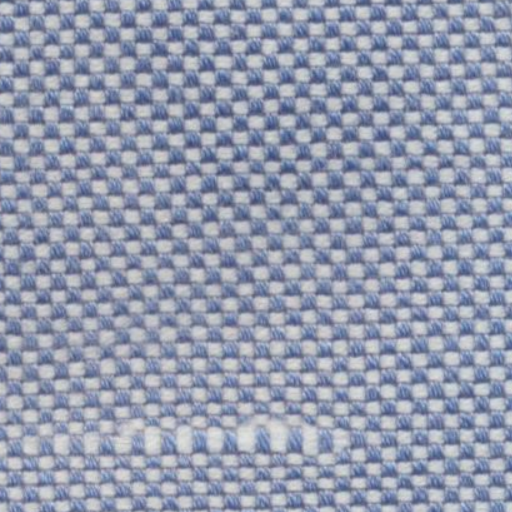DaiSha: (24, 408, 373, 471)
